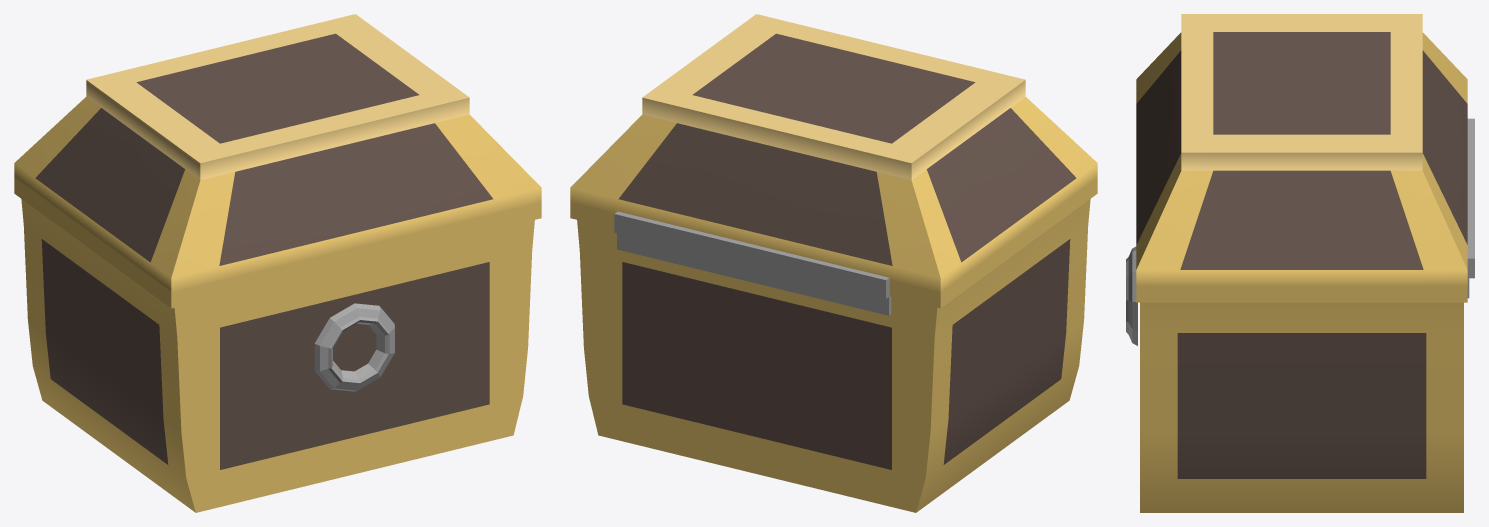
3 renders of one model, left to right at view 1: azimuth 30°, elevation 25°; view 2: azimuth 150°, elevation 25°; view 3: azimuth 270°, elevation 25°, orthographic. The views are drawn at different scales.
Parts seen in each view (by area): view 1: cover, box, decoration; view 2: box, cover, pCube7, pCube6; view 3: cover, box, pCube7, decoration.
Boxes of the visible parts, left/top/right/bottom form: cover: left=14, top=14, right=541, bottom=308; box: left=21, top=199, right=534, bottom=512; decoration: left=314, top=303, right=394, bottom=391; box: left=577, top=199, right=1090, bottom=512; cover: left=570, top=14, right=1097, bottom=308; pCube7: left=614, top=211, right=889, bottom=298; pCube6: left=617, top=233, right=891, bottom=315; cover: left=1136, top=14, right=1467, bottom=302; box: left=1140, top=302, right=1463, bottom=512; pCube7: left=1467, top=118, right=1474, bottom=278; decoration: left=1126, top=246, right=1137, bottom=345.
Bounding box in the file's own units: 5.57 × 4.73 × 4.31.
